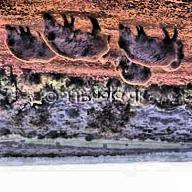boar: (39, 10, 110, 68), (115, 14, 179, 68), (2, 21, 57, 62), (110, 53, 157, 88)
